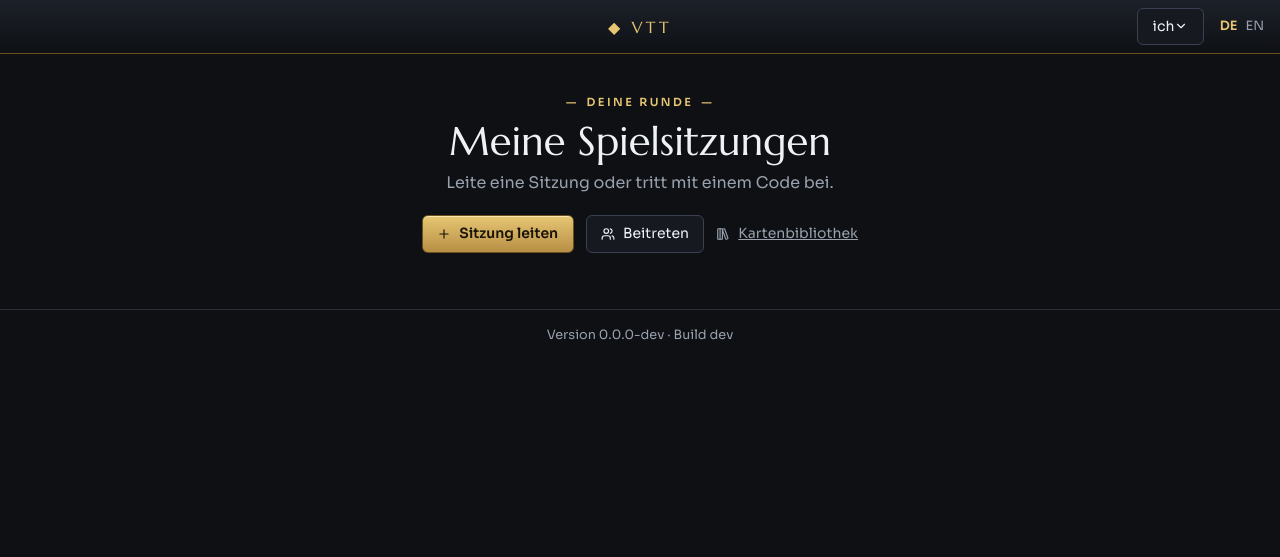
Test case: Unteransicht zeigt Zurück als erstes fokussierbares Element
Click the button "Kartenbibliothek".
click(787, 234)  # box x1=716 y1=223 x2=858 y2=244
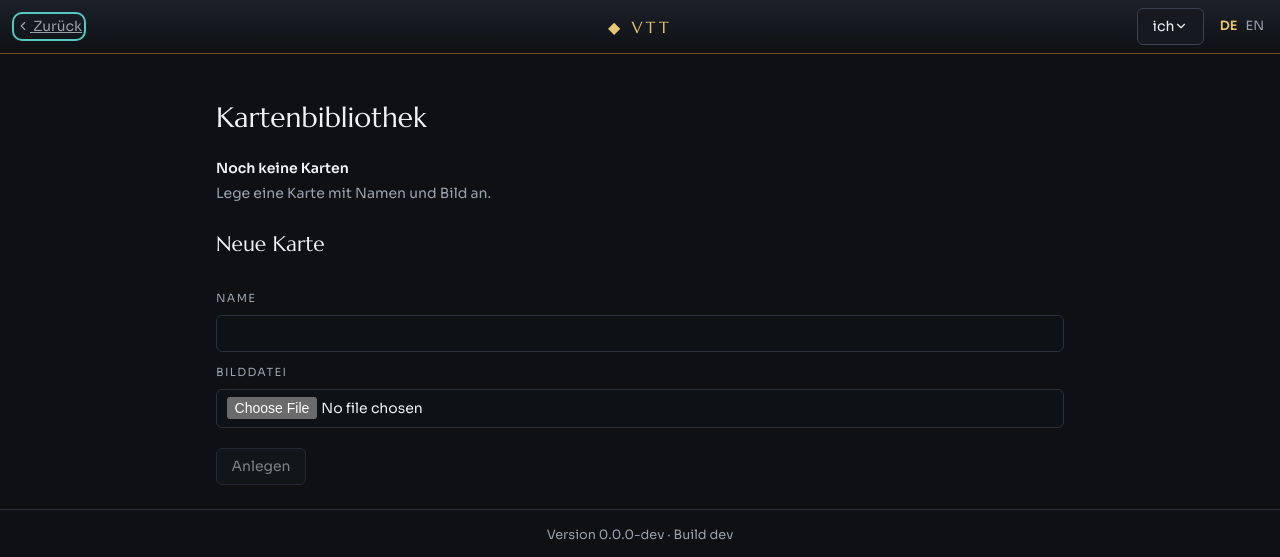
Expected: the number of buttons "Zurück" is 1, x1=16 y1=16 x2=82 y2=37
Expected: the heading "Neue Karte" is shown, x1=216 y1=231 x2=325 y2=257
